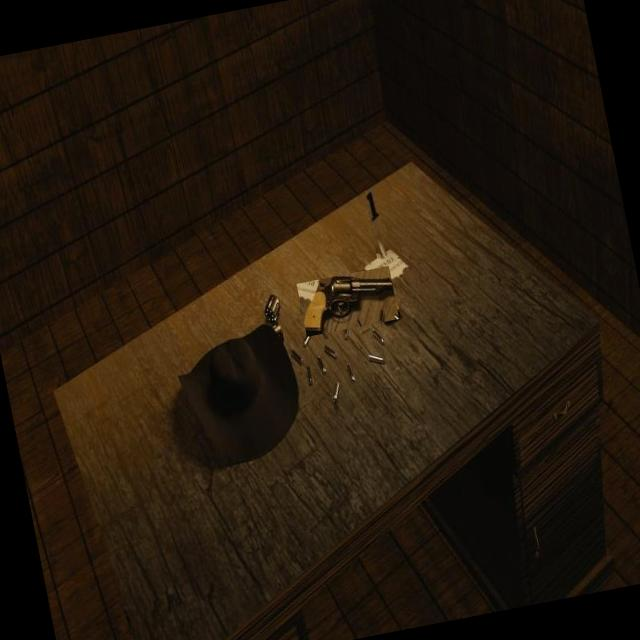Gun: (305, 276, 393, 335)
Knife: (367, 191, 387, 257)
